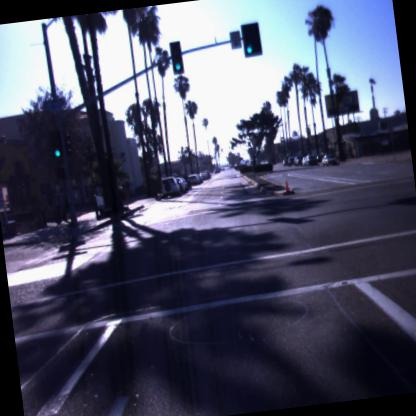trafficlight: (40, 115, 67, 174), (237, 13, 266, 62), (164, 30, 186, 80)
